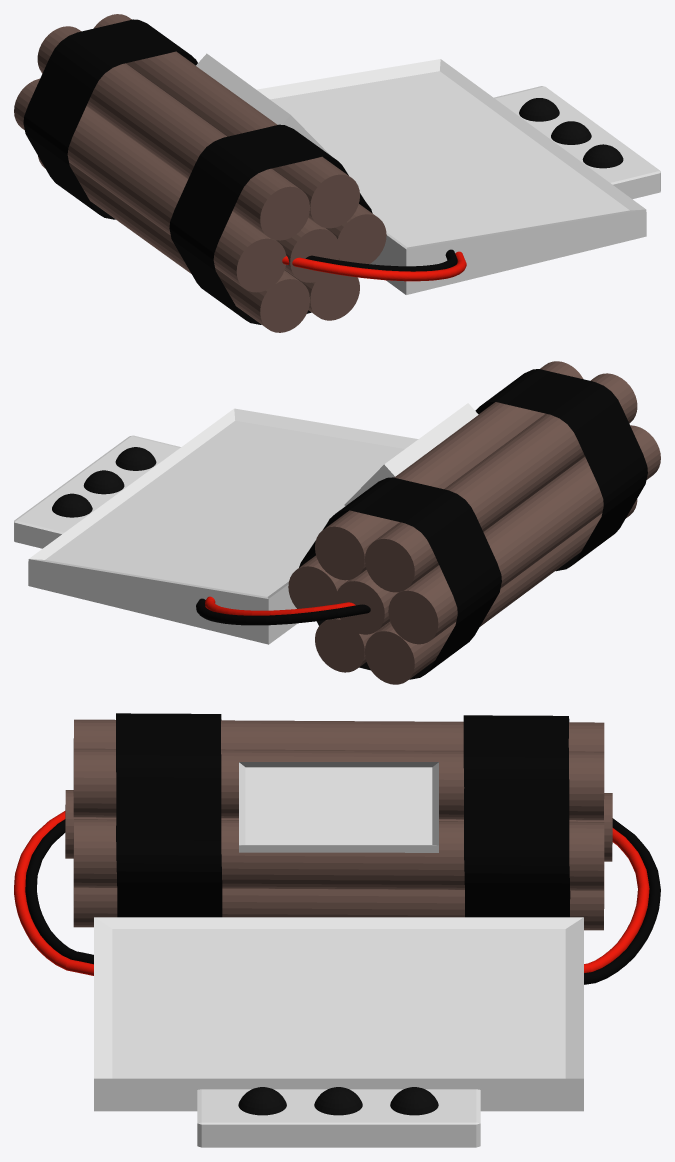
Rendered from NonDescriptDevice.fbx.
The picture shows the model from 3 angles, top to bottom: view 1: azimuth 30°, elevation 25°; view 2: azimuth 150°, elevation 25°; view 3: azimuth 270°, elevation 25°; orthographic projection. The views are drawn at different scales.
Visible parts, largest first — view 1: DefusePanel, Dynamite, Bands, TimerBox, Cable 3, Cable 4, Strike 1, Strike 2, Strike 3; view 2: DefusePanel, Dynamite, Bands, TimerBox, Cable 1, Cable 2, Strike 3, Strike 1, Strike 2; view 3: DefusePanel, Dynamite, Bands, TimerBox, Cable 3, Cable 1, Cable 4, Cable 2, Strike 1, Strike 2, Strike 3.
Part boxes in pixels (bbox=[...]): DefusePanel: bbox=[257, 59, 660, 294]; Dynamite: bbox=[14, 14, 386, 332]; Bands: bbox=[23, 19, 372, 324]; TimerBox: bbox=[196, 53, 329, 154]; Cable 3: bbox=[282, 251, 466, 281]; Cable 4: bbox=[305, 249, 457, 271]; Strike 1: bbox=[582, 144, 623, 168]; Strike 2: bbox=[551, 121, 591, 144]; Strike 3: bbox=[519, 98, 559, 121]; DefusePanel: bbox=[14, 408, 418, 644]; Dynamite: bbox=[288, 361, 660, 684]; Bands: bbox=[299, 369, 647, 679]; TimerBox: bbox=[344, 403, 478, 505]; Cable 1: bbox=[196, 598, 370, 625]; Cable 2: bbox=[205, 596, 355, 615]; Strike 3: bbox=[52, 493, 92, 517]; Strike 1: bbox=[115, 447, 156, 470]; Strike 2: bbox=[83, 470, 124, 494]; DefusePanel: bbox=[94, 917, 583, 1147]; Dynamite: bbox=[65, 719, 612, 930]; Bands: bbox=[116, 713, 570, 917]; TimerBox: bbox=[239, 762, 438, 852]; Cable 3: bbox=[14, 811, 93, 975]; Cable 1: bbox=[584, 818, 660, 984]; Cable 4: bbox=[25, 819, 93, 964]; Cable 2: bbox=[584, 828, 649, 972]; Strike 1: bbox=[238, 1087, 286, 1115]; Strike 2: bbox=[314, 1087, 362, 1115]; Strike 3: bbox=[390, 1087, 438, 1115].
Size of the model in its own units: 193 by 60.13 by 188.
